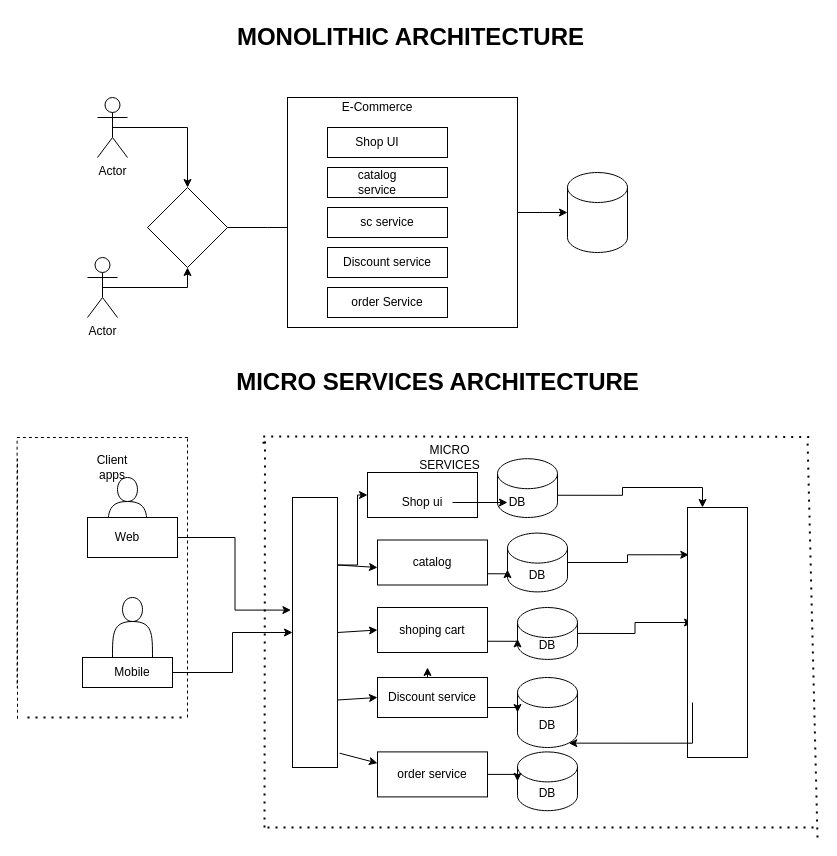
This 837x856 diagram has some shape labels left out. Here are the shapes that lost their labels. From the top down, the centre of each, then its label:
point 187,227: Load Balancer
point 597,212: RDB
point 315,632: API GATEWAY
point 717,632: MESSAGE BROKER
